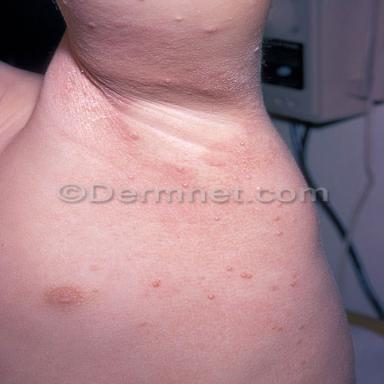Molluscum-Contagiosum: (240, 273, 252, 278), (152, 282, 160, 287), (208, 294, 215, 299), (226, 266, 233, 271), (273, 216, 280, 221), (177, 167, 184, 172), (277, 231, 283, 236), (182, 183, 188, 188), (127, 175, 134, 179), (92, 289, 98, 293), (299, 325, 304, 329), (215, 217, 220, 221), (240, 142, 245, 146), (296, 340, 301, 343), (155, 280, 160, 282)
